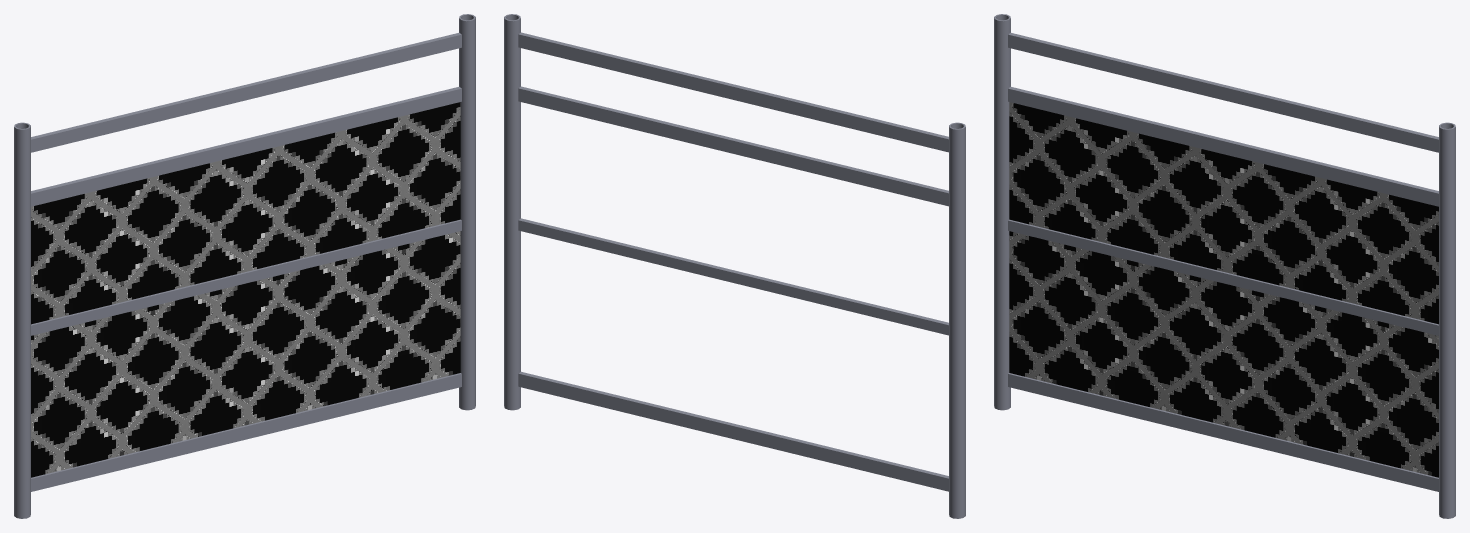
The model's file is metal_fence.glb.
3 renders of one model, left to right at view 1: azimuth 30°, elevation 25°; view 2: azimuth 150°, elevation 25°; view 3: azimuth 330°, elevation 25°, orthographic.
Visible parts, largest first — view 1: MetalFence; view 2: MetalFence; view 3: MetalFence.
Part boxes in pixels (bbox=[...]): MetalFence: bbox=[14, 14, 475, 518]; MetalFence: bbox=[504, 14, 965, 518]; MetalFence: bbox=[994, 14, 1455, 518].
Size of the model in its own units: 3.55 by 2.88 by 0.1148.
2 materials, 1 textured.
